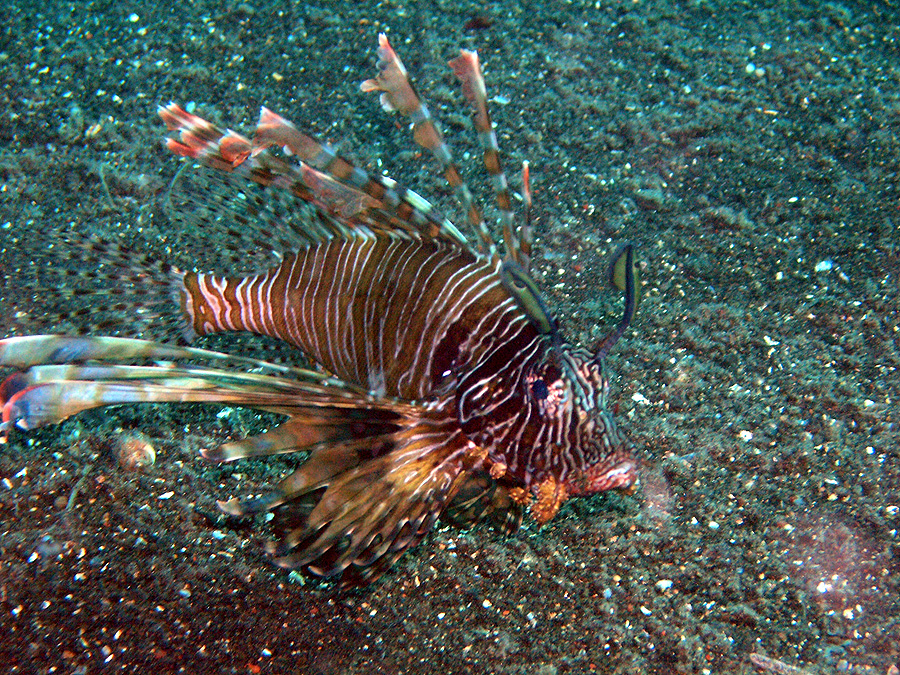Pterois_volitans: (22, 34, 680, 576)
